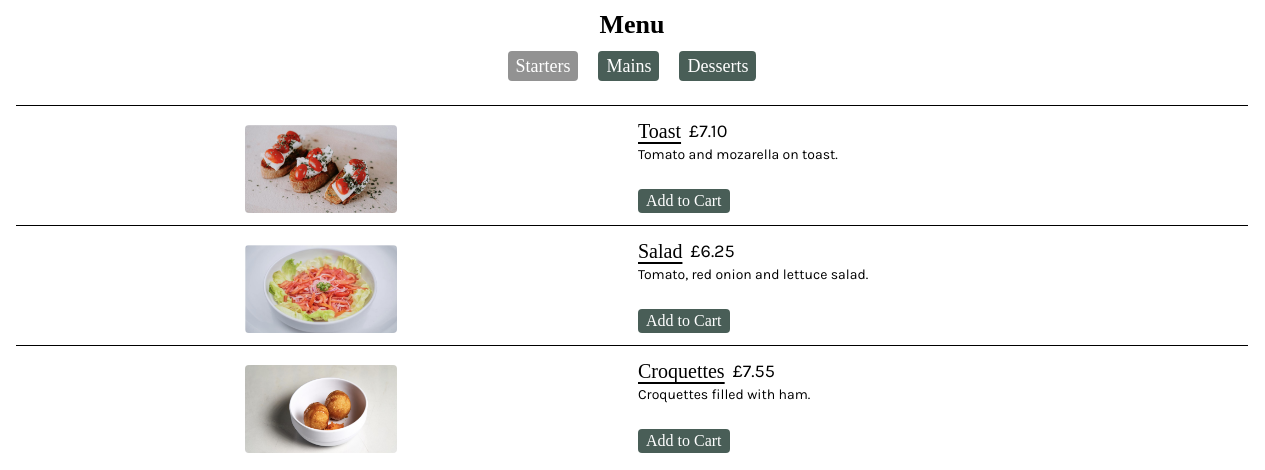
Test: Menu › only disables the "Add to Cart" button that was clicked, when the menu items being displayed are the same as when the button was clicked.
Step 1. Click the button "Add to Cart" below "Tomato and mozarella on toast." → (684, 201), box [638,189,730,213]
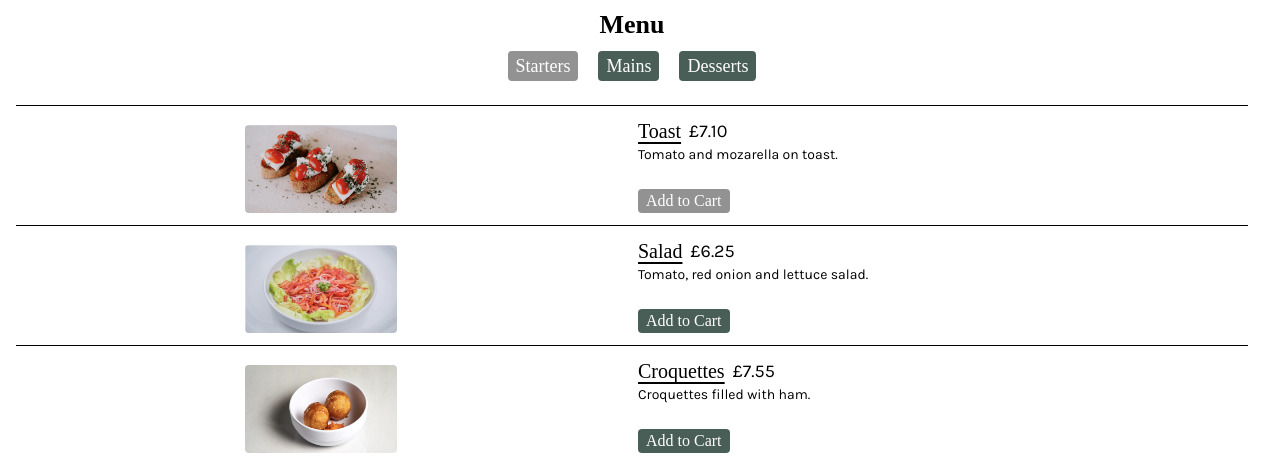
Expected: the button "Add to Cart" below "Tomato, red onion and lettuce salad." is enabled, [638,309,730,333]
Result: the button "Add to Cart" below "Tomato and mozarella on toast." is disabled at [638,189,730,213]
Step 2. Click the button "Mains" → (629, 66), box [598,51,660,81]
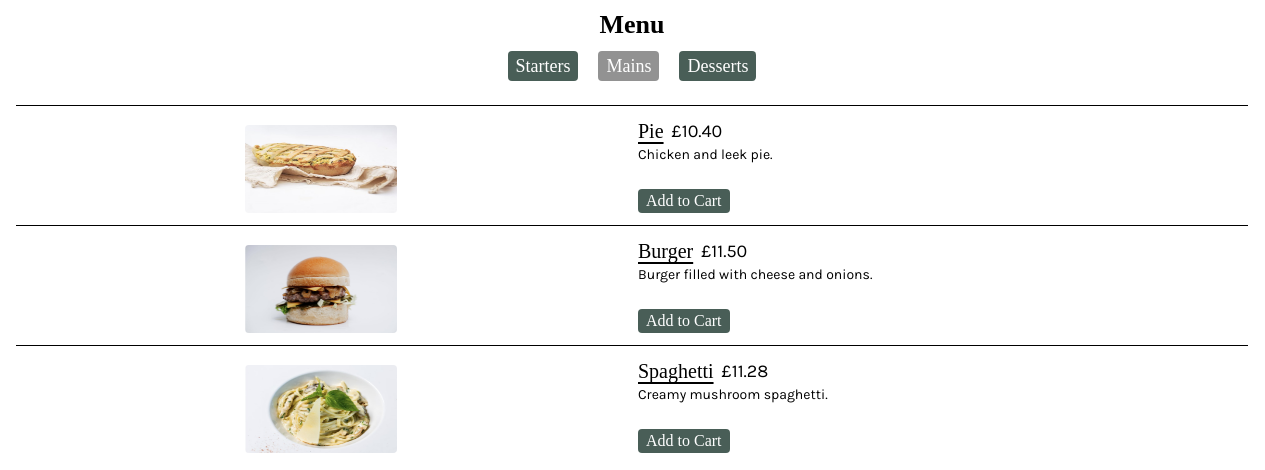
Expected: the button "Add to Cart" below "Burger filled with cheese and onions." is enabled, [638,309,730,333]
Result: the button "Add to Cart" below "Chicken and leek pie." is enabled at [638,189,730,213]
Step 3. Click the button "Starters" → (543, 66), box [508,51,578,81]
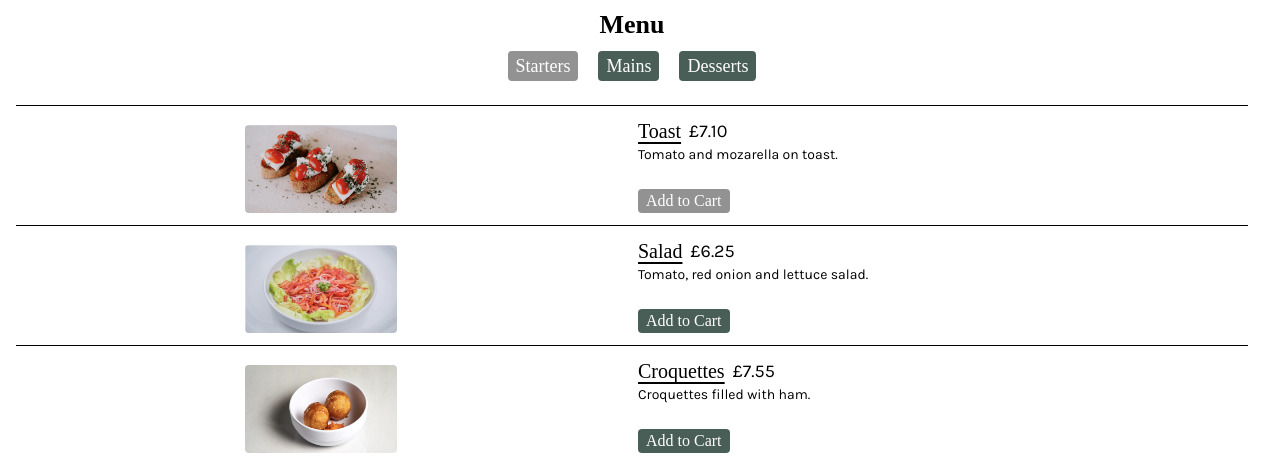
Expected: the button "Add to Cart" below "Tomato, red onion and lettuce salad." is enabled, [638,309,730,333]
Result: the button "Add to Cart" below "Tomato and mozarella on toast." is disabled at [638,189,730,213]
